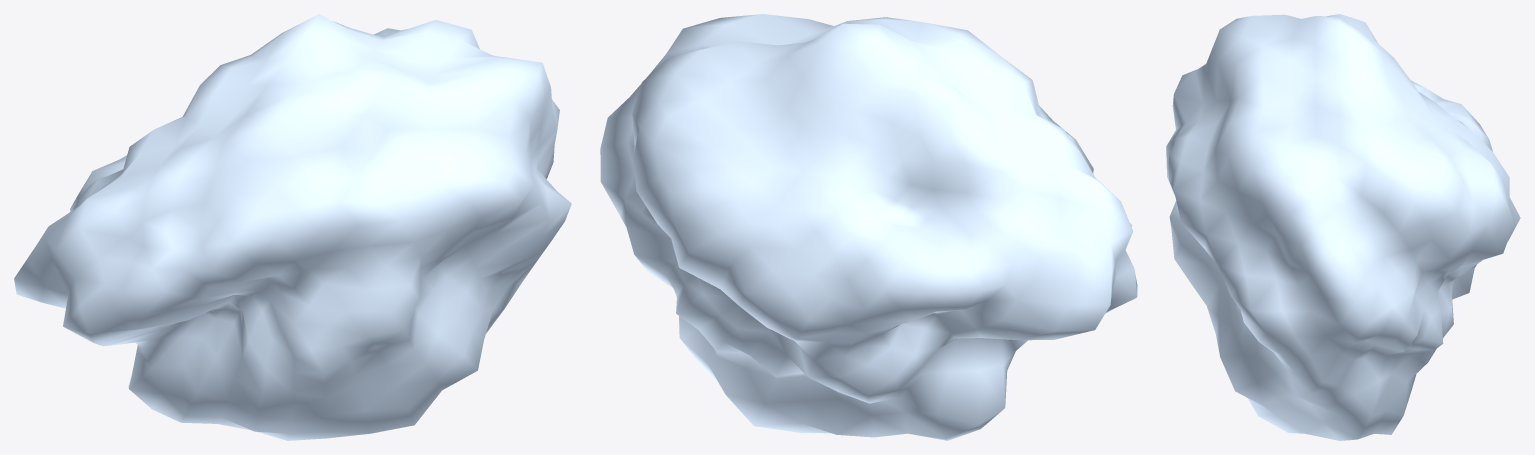
Rendered from comet-nucleus.glb.
3 views of the same model, side by side, from view 1: azimuth 30°, elevation 25°; view 2: azimuth 150°, elevation 25°; view 3: azimuth 270°, elevation 25° (orthographic). The views are drawn at different scales.
Visible parts, largest first — view 1: CometNucleus; view 2: CometNucleus; view 3: CometNucleus.
Part boxes in pixels (x1,y1,x2,y2): CometNucleus: [14, 14, 571, 440]; CometNucleus: [600, 14, 1137, 440]; CometNucleus: [1166, 14, 1520, 440].
Size of the model in its own units: 3.34 by 2.48 by 2.06.
